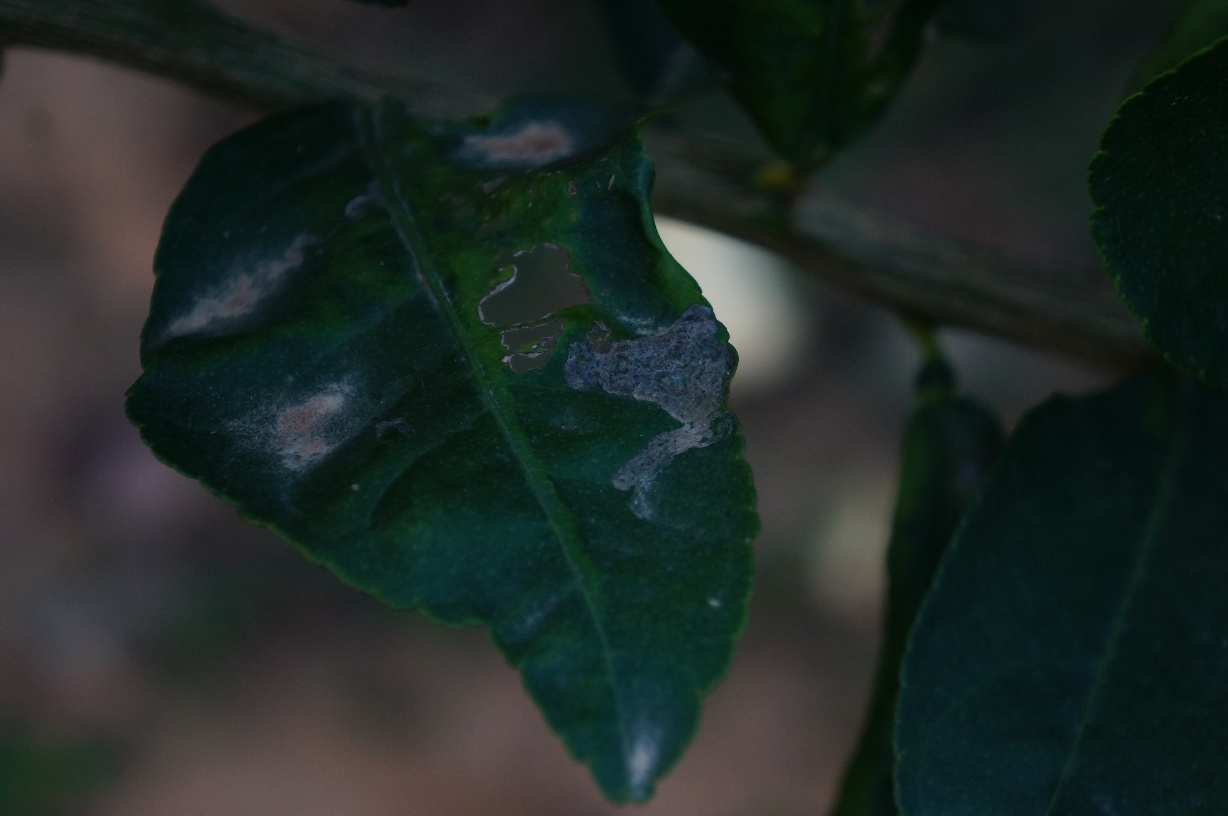damage: (555, 297, 767, 525), (469, 231, 609, 381)
